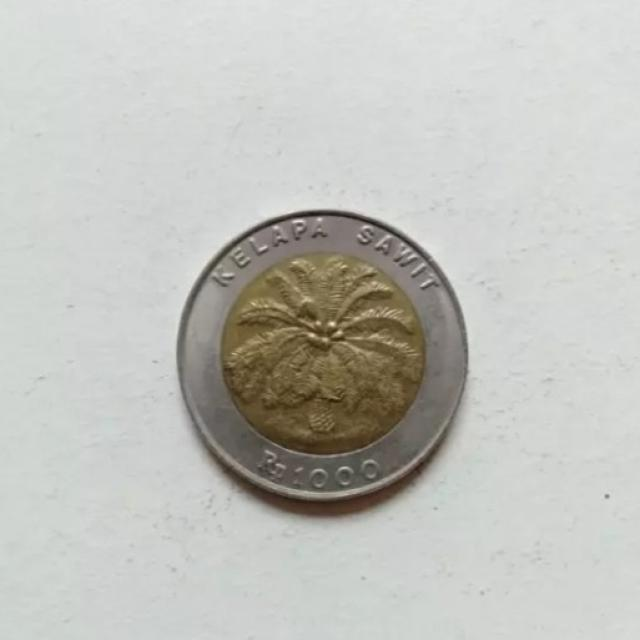1000-sawit: (175, 204, 478, 518)
